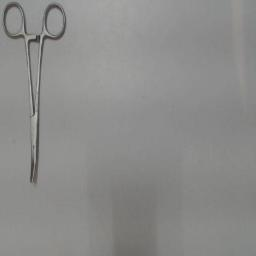Crile Artery Forceps: (0, 0, 68, 188)
